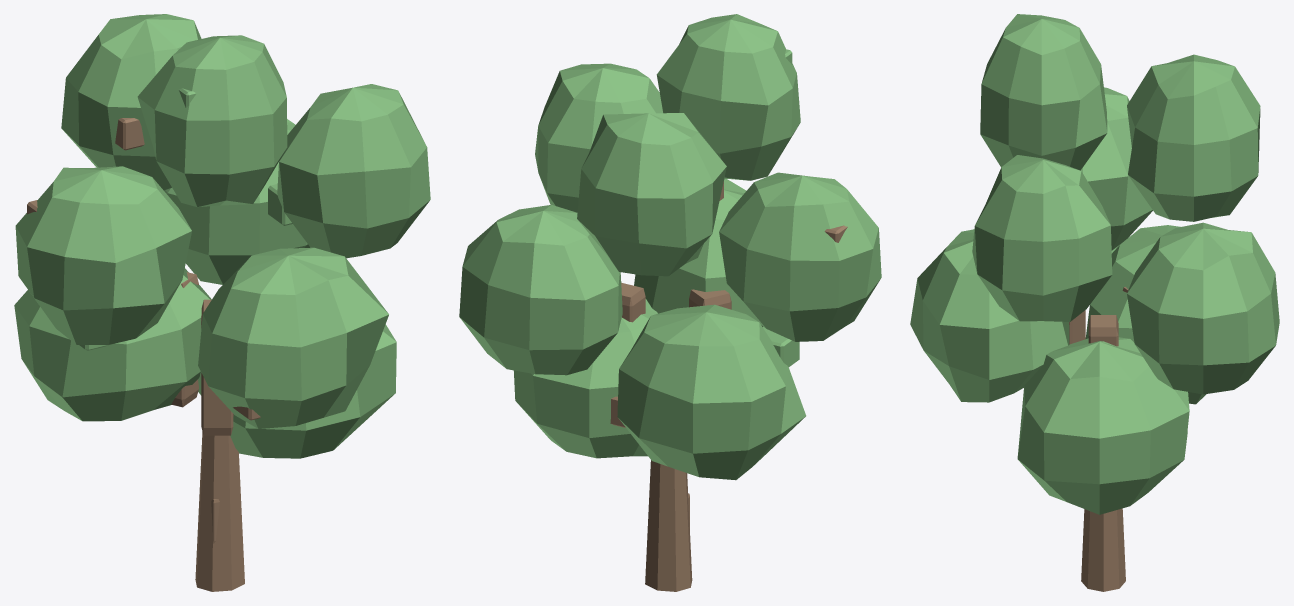
The model's file is b08_ginkgo.glb.
3 renders of one model, left to right at view 1: azimuth 30°, elevation 25°; view 2: azimuth 150°, elevation 25°; view 3: azimuth 270°, elevation 25°, orthographic. The views are drawn at different scales.
Parts seen in each view (by area): view 1: b08_ginkgo; view 2: b08_ginkgo; view 3: b08_ginkgo.
Boxes of the visible parts, bbox=[...] form: b08_ginkgo: bbox=[14, 14, 430, 591]; b08_ginkgo: bbox=[459, 14, 881, 591]; b08_ginkgo: bbox=[910, 14, 1279, 591].
Size of the model in its own units: 3.85 by 5.62 by 3.44.
